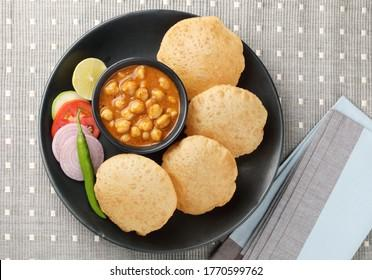puri: (182, 21, 265, 231)
